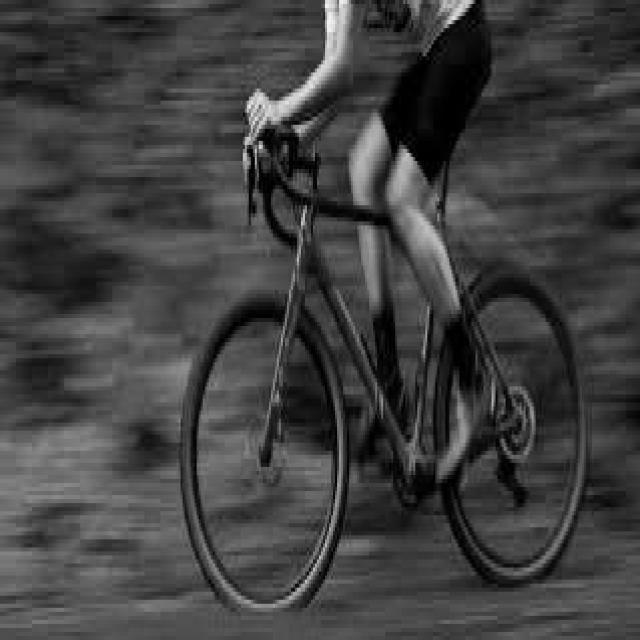bicycle: (193, 64, 592, 612)
